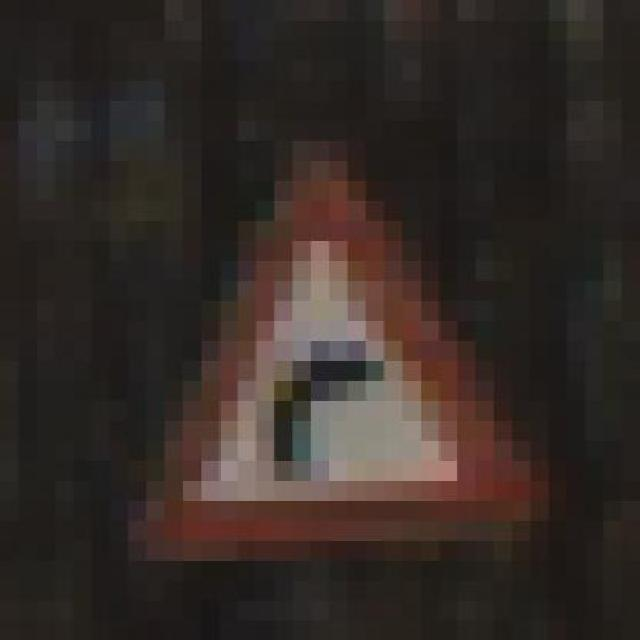Dangerous Rright Curve Ahead: (128, 140, 568, 560)
